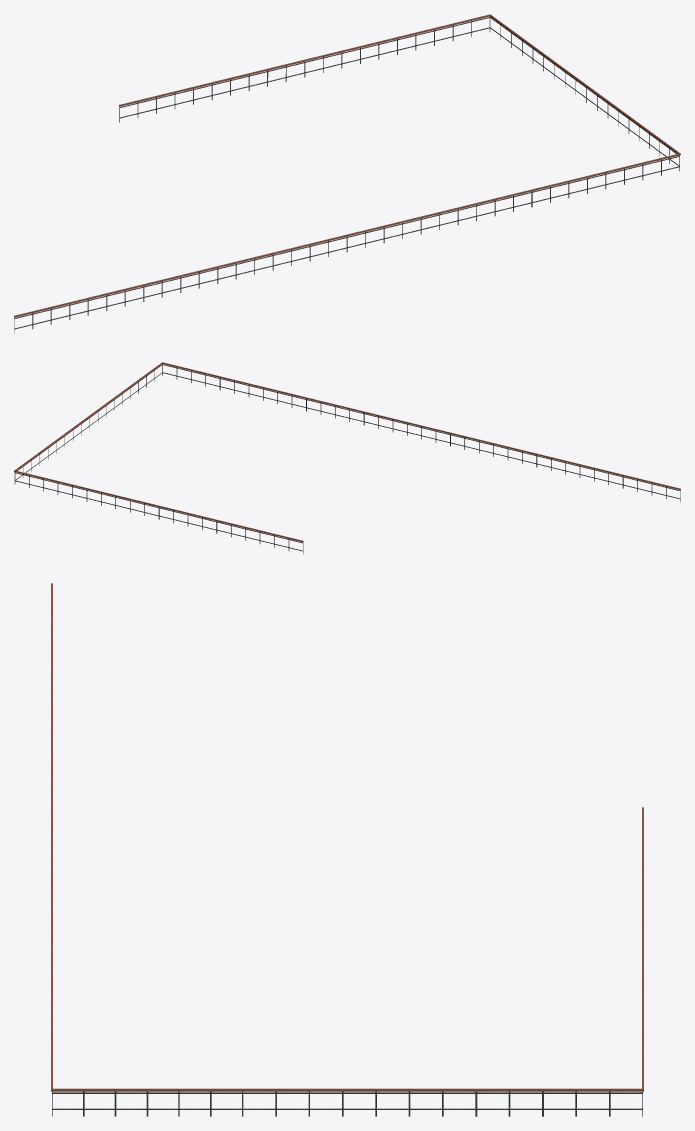
Rendered from des_telecafenc.obj.
3 views of the same model, one above another, from view 1: azimuth 30°, elevation 25°; view 2: azimuth 150°, elevation 25°; view 3: azimuth 270°, elevation 25° (orthographic). The views are drawn at different scales.
Visible parts, largest first — view 1: des_telecafenc; view 2: des_telecafenc; view 3: des_telecafenc.
Boxes of the visible parts, bbox=[...] form: des_telecafenc: bbox=[14, 14, 680, 333]; des_telecafenc: bbox=[14, 362, 680, 554]; des_telecafenc: bbox=[51, 583, 643, 1116].
Bounding box in the file's own units: 37.04 × 0.9358 × 18.34.
2 materials, 2 textured.
